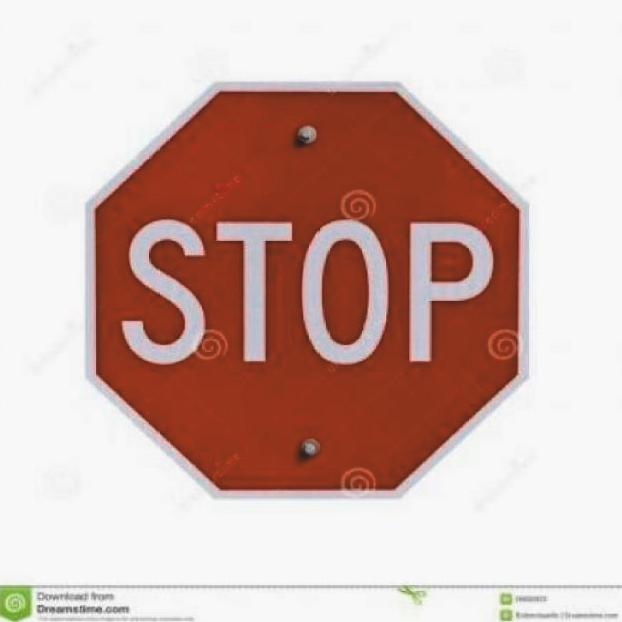stop_sign: (88, 81, 531, 500)
